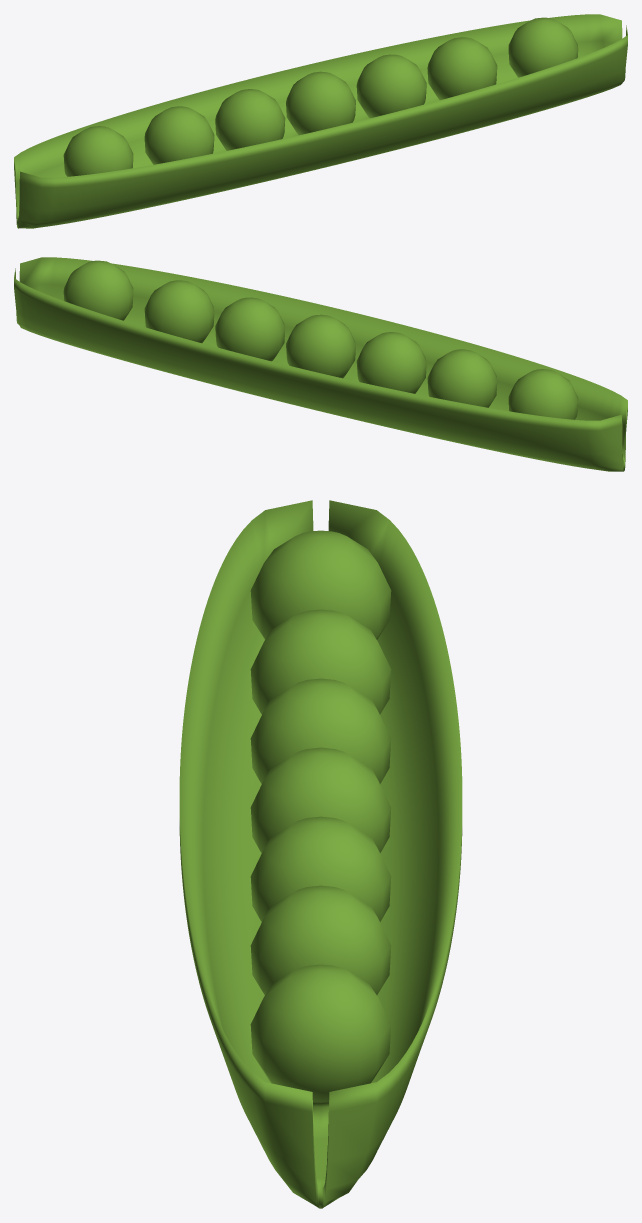
The model's file is NEW_RECOVERY_036_LOD2.glb.
3 views of the same model, one above another, from view 1: azimuth 30°, elevation 25°; view 2: azimuth 150°, elevation 25°; view 3: azimuth 270°, elevation 25° (orthographic). The views are drawn at different scales.
Parts seen in each view (by area): view 1: Whole_open_pea_pod; view 2: Whole_open_pea_pod; view 3: Whole_open_pea_pod.
Boxes of the visible parts, x1,y1,x2,y2 form: Whole_open_pea_pod: [14, 14, 627, 228]; Whole_open_pea_pod: [14, 257, 627, 471]; Whole_open_pea_pod: [179, 500, 462, 1208].
Size of the model in its own units: 10 by 1.25 by 2.02.
